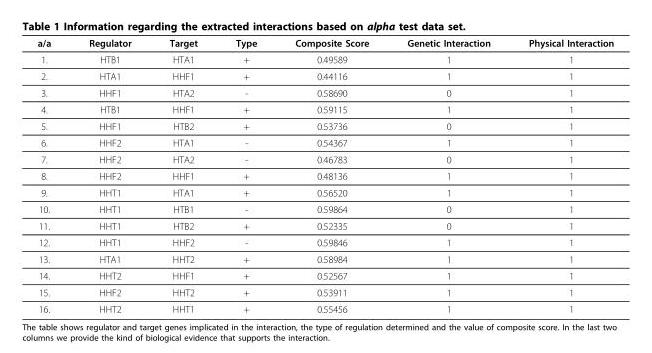table: (36, 36, 613, 314)
table column: (387, 36, 508, 314), (275, 36, 387, 314), (508, 36, 613, 314), (69, 36, 149, 314), (149, 36, 215, 314), (215, 36, 275, 314), (36, 36, 69, 314)
table column header: (36, 36, 613, 50)
table row: (36, 50, 613, 67), (36, 67, 613, 84), (36, 100, 613, 117), (36, 117, 613, 134), (36, 150, 613, 167), (36, 167, 613, 184), (36, 200, 613, 217), (36, 233, 613, 250), (36, 250, 613, 267), (36, 283, 613, 300), (36, 84, 613, 100), (36, 134, 613, 150), (36, 184, 613, 200), (36, 217, 613, 233), (36, 267, 613, 283), (36, 36, 613, 50), (36, 300, 613, 314)
